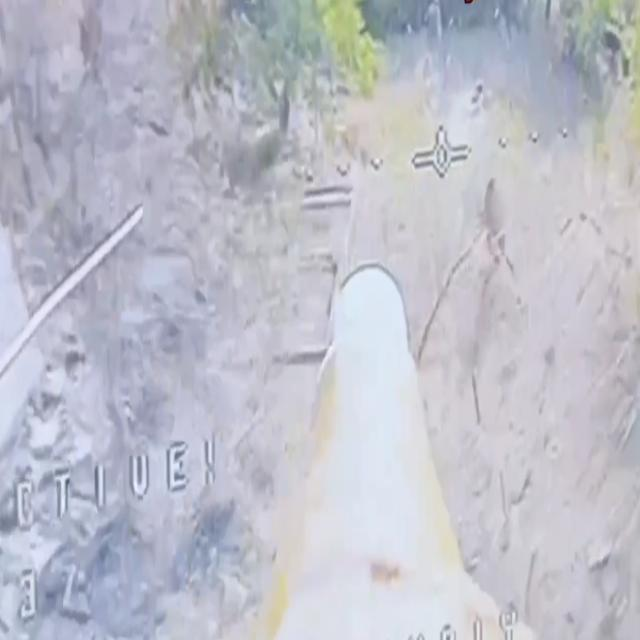vehicle: (221, 98, 277, 190)
